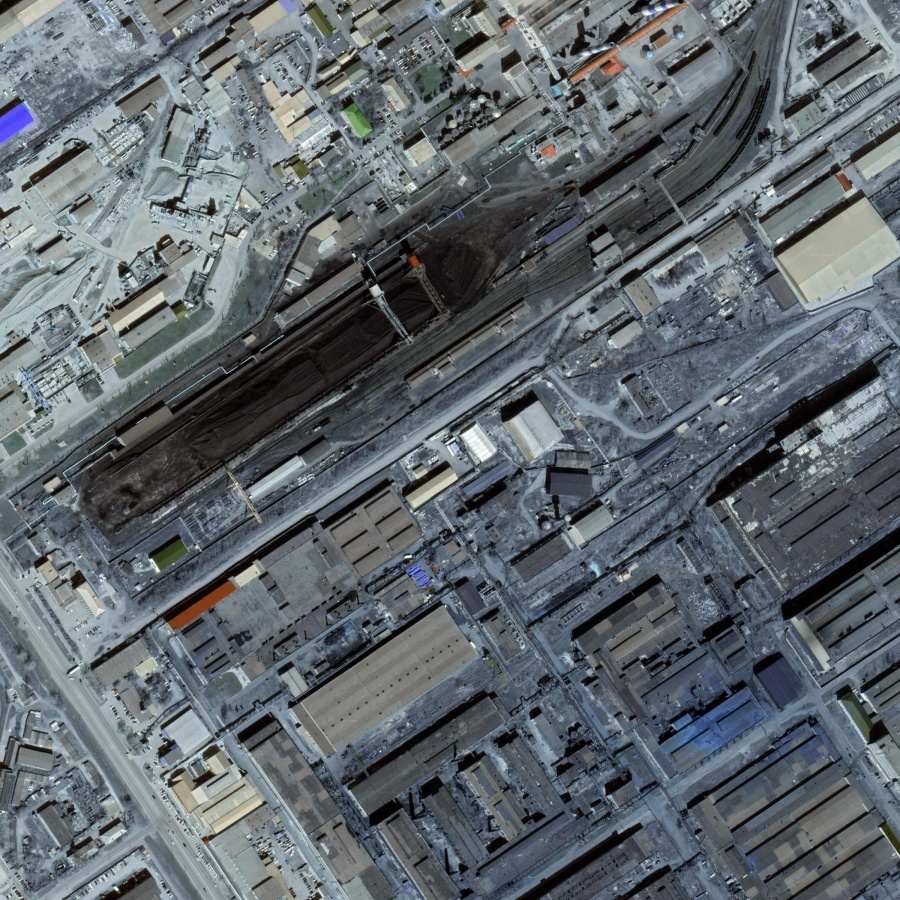PowerPlant: (56, 178, 528, 548)
